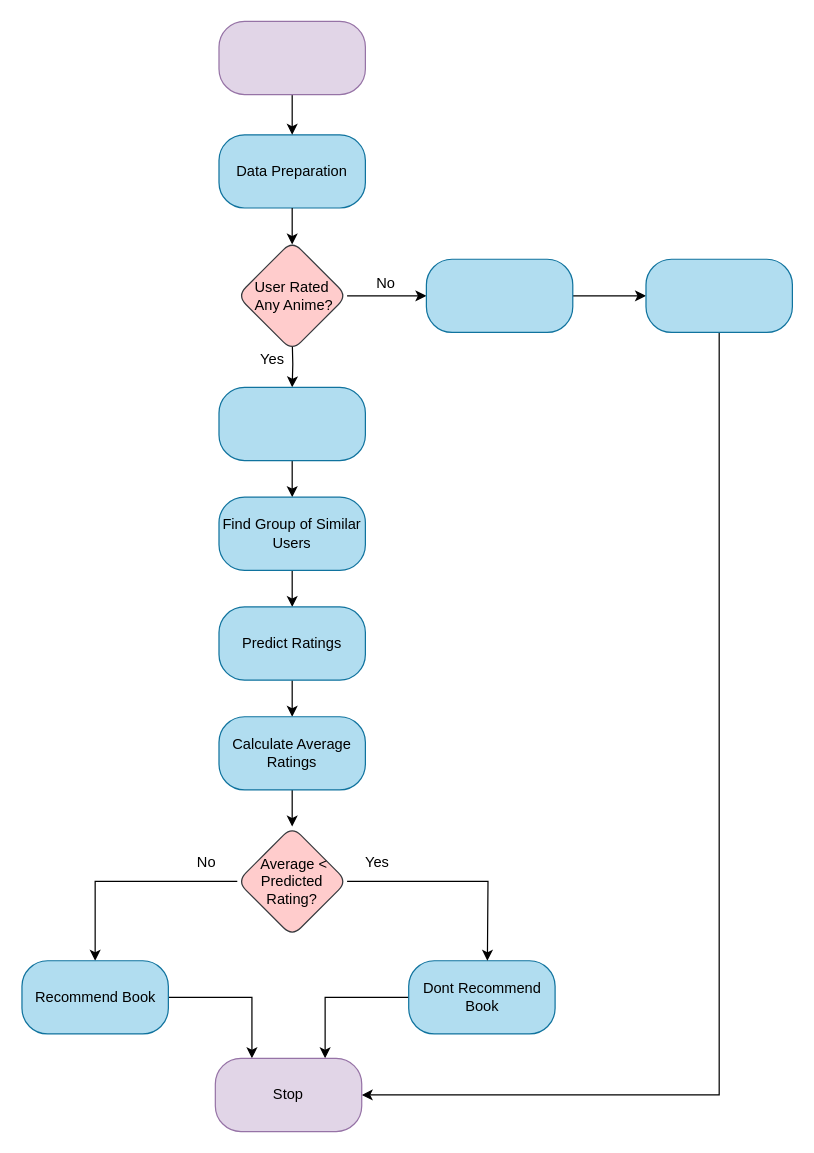
This 814x1153 diagram has some shape labels left out. Each missing label, with the centre of its shape:
"Calculate Similarity Scores" goes at point (291, 423).
"Calculate Weighted Mean of each Anime" goes at point (499, 295).
"Recommend the Anime with highest Weighted Mean" goes at point (718, 295).
"Start" goes at point (291, 57).
